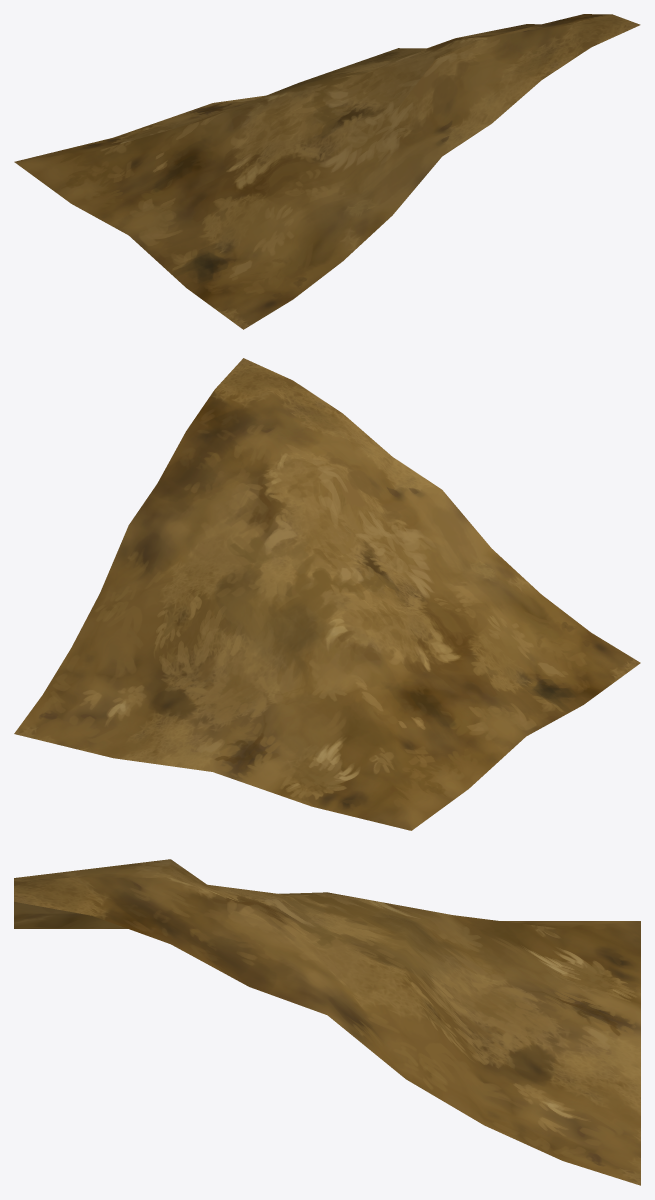
Rendered from Slope_Corner_002.fbx.
3 renders of one model, top to bottom at view 1: azimuth 30°, elevation 25°; view 2: azimuth 150°, elevation 25°; view 3: azimuth 270°, elevation 25°, orthographic. The views are drawn at different scales.
Parts seen in each view (by area): view 1: Slope_Corner_002; view 2: Slope_Corner_002; view 3: Slope_Corner_002.
Part boxes in pixels (<box>): Slope_Corner_002: <box>14,14,640,329</box>; Slope_Corner_002: <box>14,358,640,830</box>; Slope_Corner_002: <box>14,859,640,1185</box>.
Size of the model in its own units: 10 by 5 by 10.
1 material, 1 textured.
